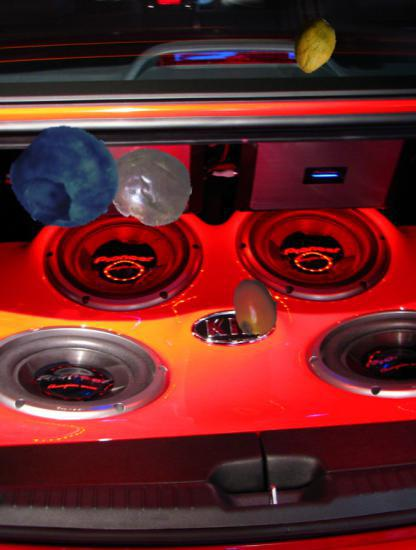Huckleberry: (14, 126, 119, 231)
Kaki: (226, 277, 286, 337)
Papaya: (286, 18, 341, 73)
Passion: (105, 143, 193, 231)
